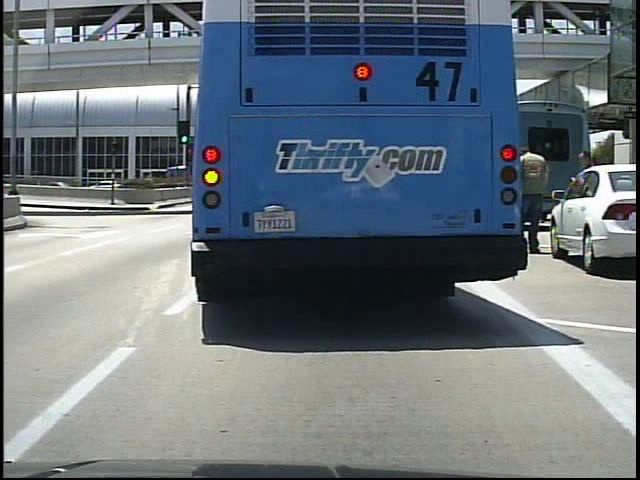person: (571, 148, 598, 261), (519, 145, 546, 256)
